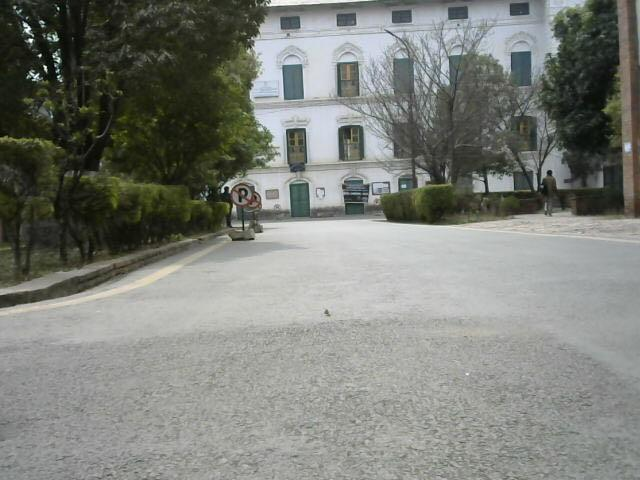Building: (251, 0, 544, 207)
Person: (540, 169, 562, 219)
Road: (0, 237, 640, 480)
Traffic sign: (227, 184, 256, 241)
Tree: (1, 3, 235, 283), (354, 29, 519, 239)
